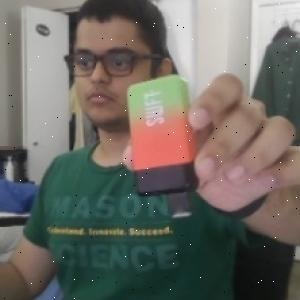Swift-E-Ciggirate: (123, 68, 200, 222)
